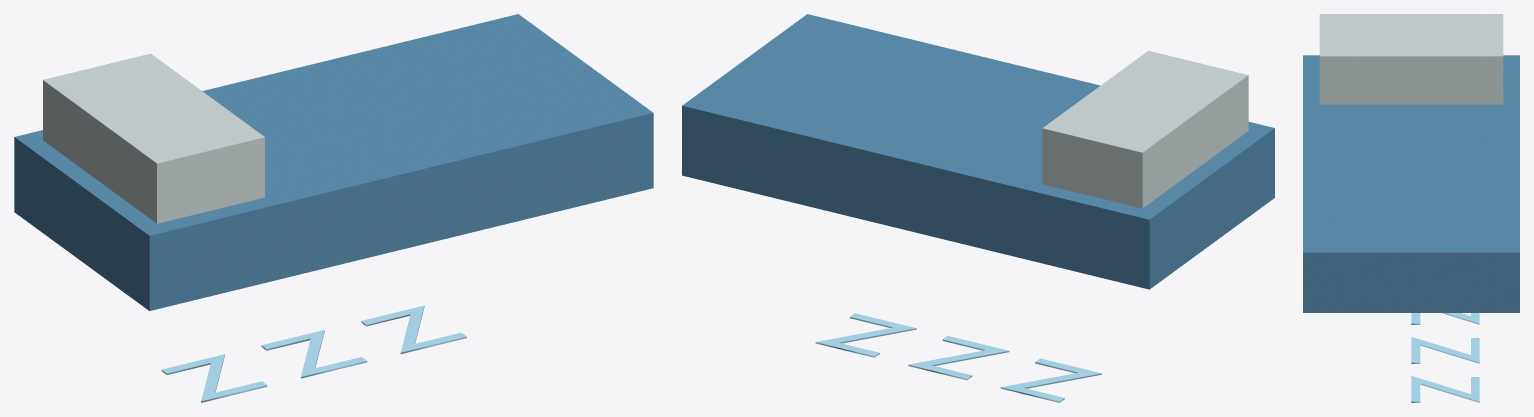
The model's file is zzz.glb.
The picture shows the model from 3 angles, left to right: view 1: azimuth 30°, elevation 25°; view 2: azimuth 150°, elevation 25°; view 3: azimuth 270°, elevation 25°; orthographic projection. The views are drawn at different scales.
Visible parts, largest first — view 1: Bed Nap dimensional effect.001, Z Z Z.001; view 2: Bed Nap dimensional effect.001, Z Z Z.001; view 3: Bed Nap dimensional effect.001, Z Z Z.001.
Part boxes in pixels (box(x1,y1,x2,y2)): Bed Nap dimensional effect.001: box(14, 14, 653, 310); Z Z Z.001: box(161, 305, 466, 402); Bed Nap dimensional effect.001: box(682, 14, 1274, 289); Z Z Z.001: box(815, 313, 1101, 402); Bed Nap dimensional effect.001: box(1303, 14, 1519, 312); Z Z Z.001: box(1411, 313, 1479, 402).
Size of the model in its own units: 1.4 by 0.812 by 0.65.
2 materials, 1 textured.
